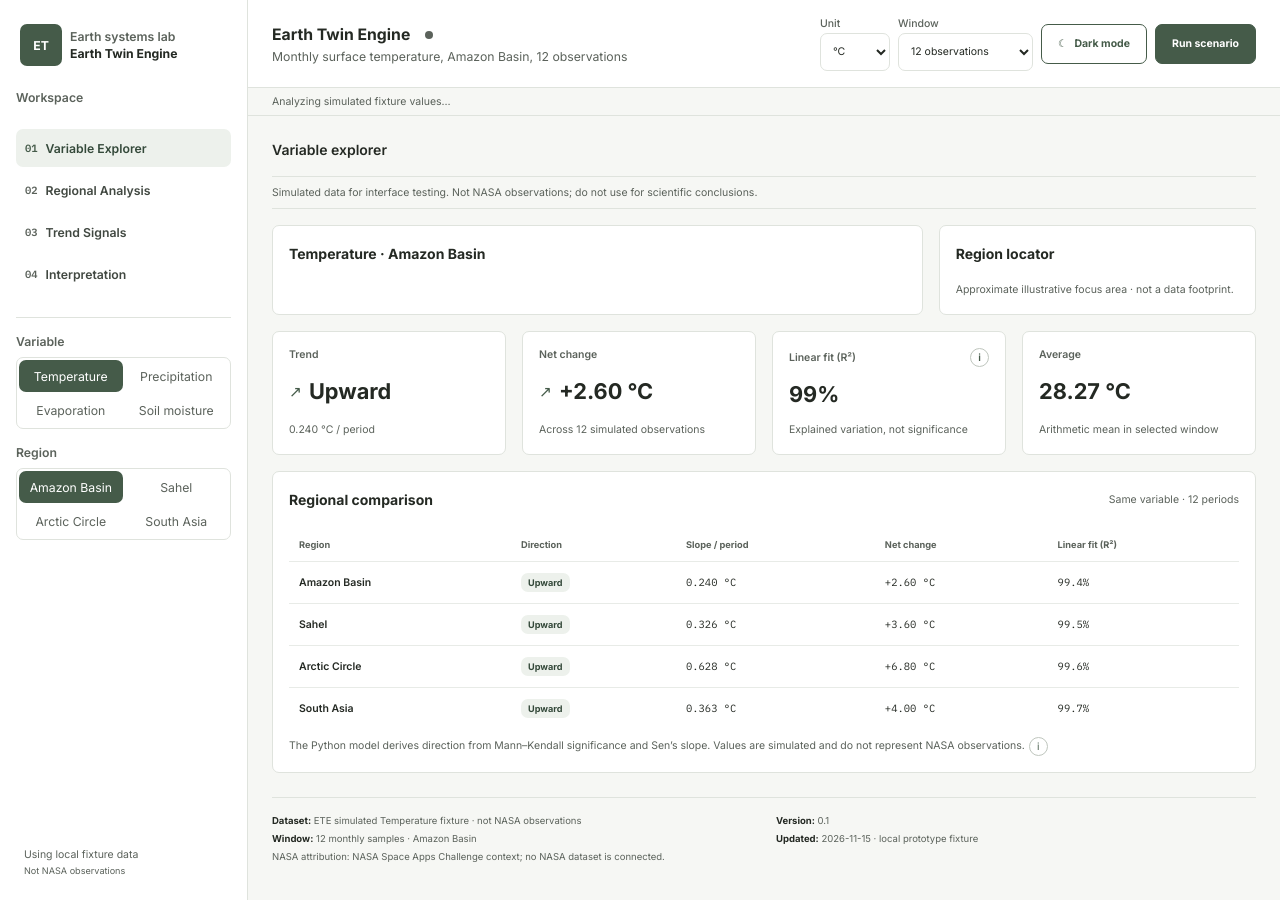
Test: Earth Twin Engine workspace › switches the variable and unit and navigates to regional analysis
Expected: the heading "Variable explorer" is shown, [272,140,387,160]
Click the button "Precipitation" at (176, 376), box [124,360,228,392]
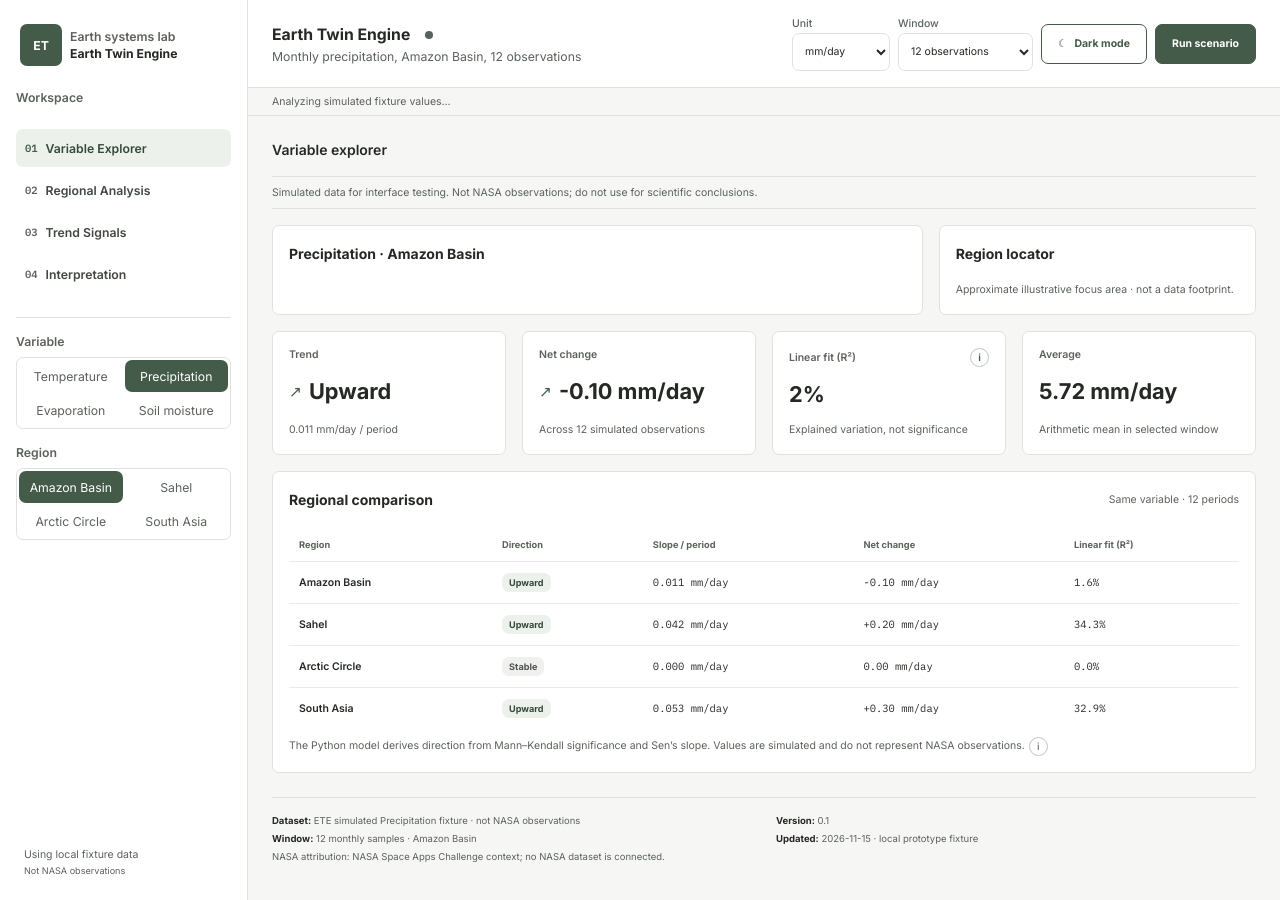
Expected: the dropdown labelled "Unit" shows "mm/day", [792,32,890,70]
Expected: the heading "Precipitation · Amazon Basin" is shown, [289,245,485,262]
Click the link "02 Regional Analysis" at (88, 190), box [25,182,150,198]
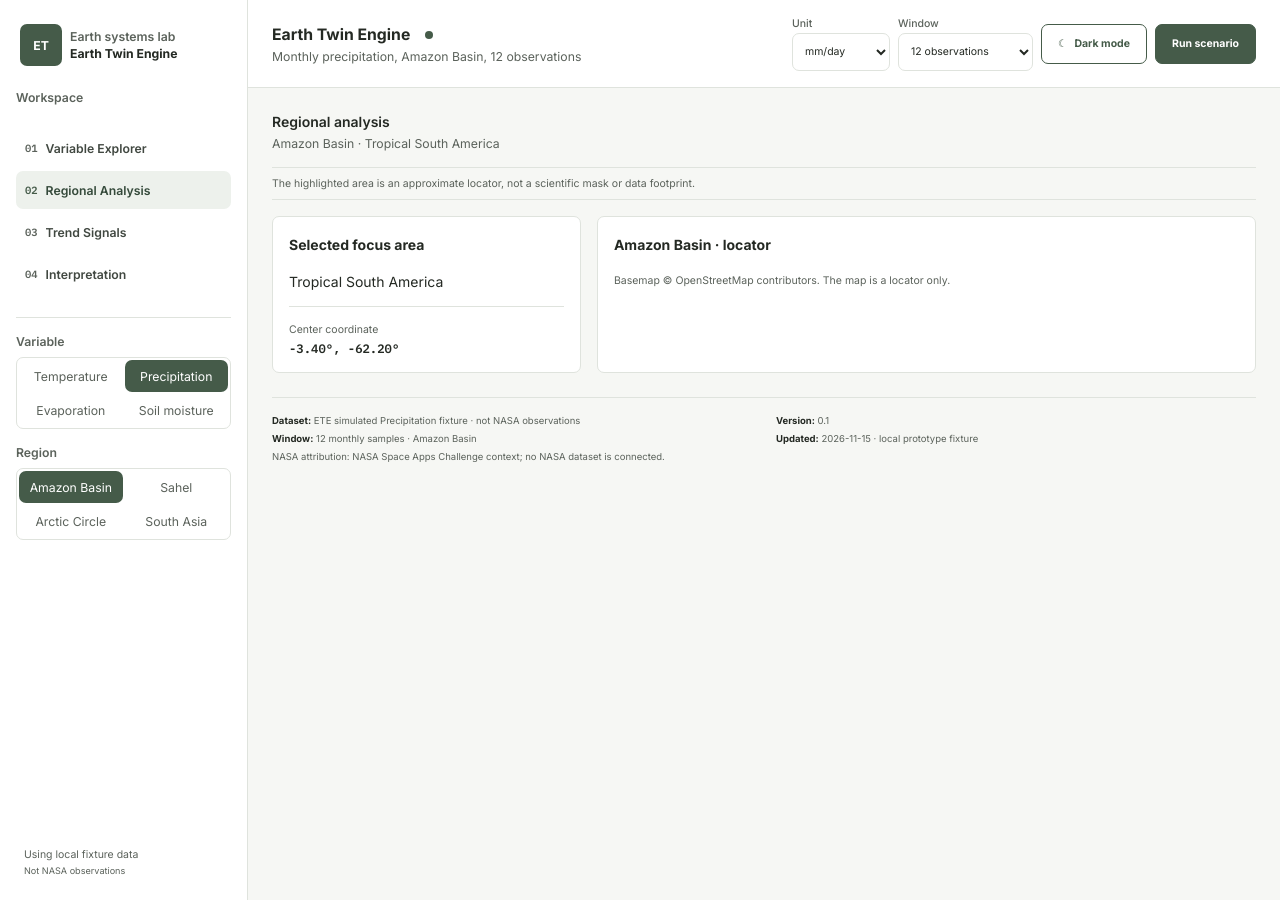
Expected: the heading "Regional analysis" is shown, [272,113,390,130]
